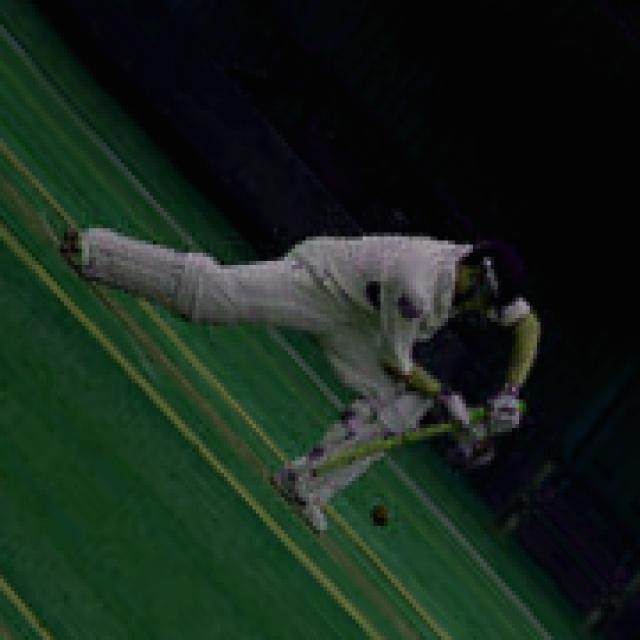toe: (303, 438, 347, 480)
